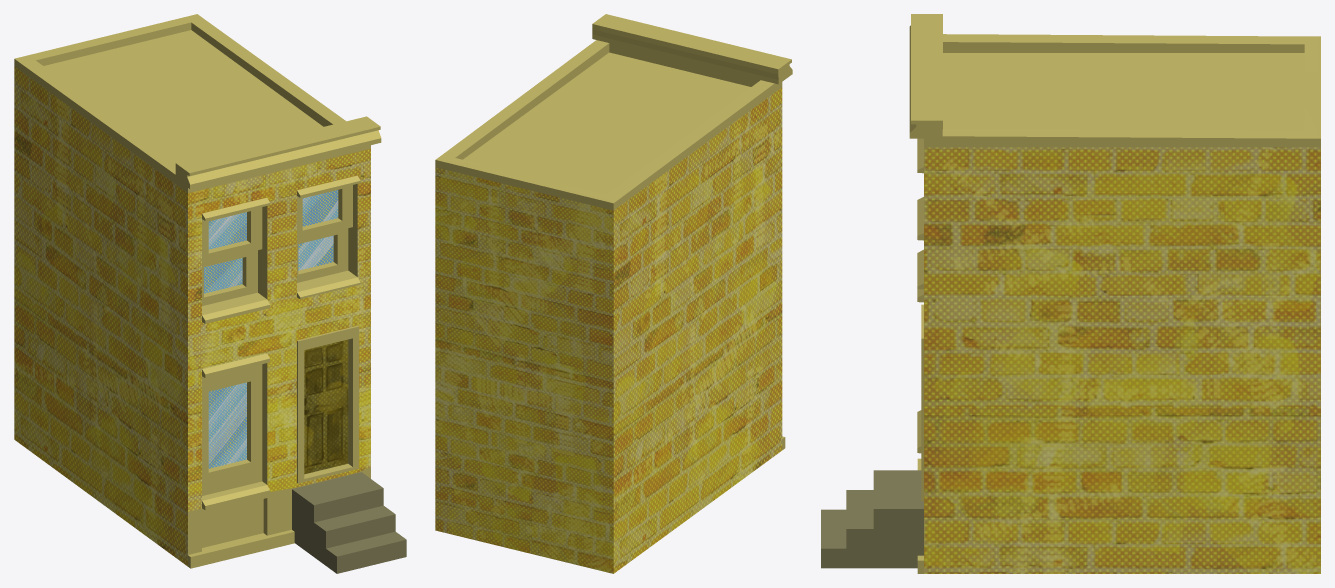
Rendered from build3.fbx.
3 views of the same model, side by side, from view 1: azimuth 30°, elevation 25°; view 2: azimuth 150°, elevation 25°; view 3: azimuth 270°, elevation 25° (orthographic). The views are drawn at different scales.
Parts seen in each view (by area): view 1: polySurface4; view 2: polySurface4; view 3: polySurface4.
Boxes of the visible parts, x1,y1,x2,y2 form: polySurface4: (14,14,406,573); polySurface4: (435,14,792,573); polySurface4: (821,14,1320,573).
Bounding box in the file's own units: 4.85 × 9.65 × 9.6.
